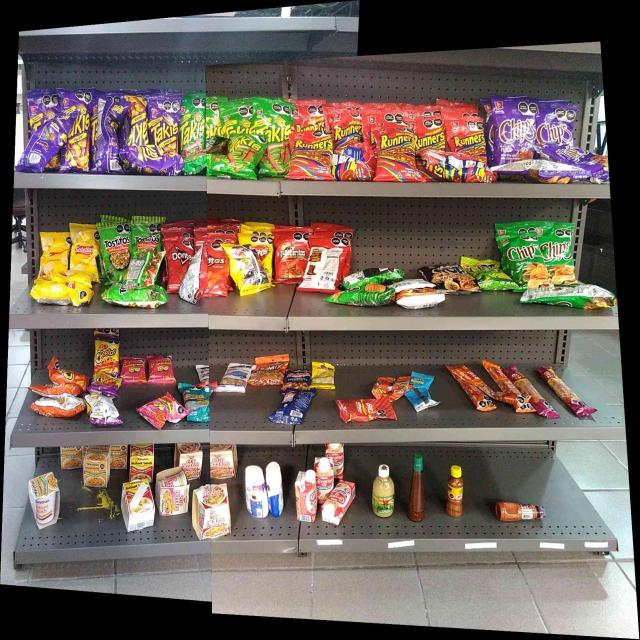bitzAlmendras: (411, 387, 432, 409)
bitzEnchilado90: (342, 399, 388, 420)
bitzEnchilado95: (456, 366, 489, 411), (493, 364, 520, 412)
bitzHabanero: (556, 377, 590, 415), (524, 375, 551, 418)
bokadosCacahuates: (287, 369, 310, 388)
botaneraChilito: (446, 465, 464, 518)
cheetosFlaminHot: (95, 334, 118, 374)
cheetosOriginal: (50, 361, 87, 386)
chipsFuego: (495, 100, 534, 160), (540, 105, 573, 143), (545, 145, 606, 161)
chipsJalapeno: (509, 233, 544, 284), (546, 227, 575, 283)
chipsPapatinas: (478, 262, 507, 289)
churrumais: (144, 397, 178, 424), (149, 356, 174, 384), (122, 357, 145, 383)
delPrimoSalsa: (372, 464, 395, 518)
doritosNacho: (207, 240, 227, 297), (167, 238, 188, 288)
leoCacahuates: (223, 364, 248, 390)
leoMix: (261, 107, 288, 177), (223, 134, 258, 178), (256, 358, 284, 384)
maruchanPollo: (28, 474, 62, 526), (84, 444, 110, 486)
maruchanRes: (122, 481, 154, 528)
nestleCarnation: (296, 472, 316, 521), (330, 483, 352, 526), (318, 457, 329, 501)
nestleLechera: (245, 466, 265, 517), (268, 462, 283, 516)
nissinCamaron: (158, 470, 190, 514)
nissinRes: (130, 444, 153, 478)
popKarameladas: (435, 265, 474, 290)
productoAtras: (96, 95, 120, 174), (26, 116, 60, 170), (500, 163, 586, 182), (531, 288, 615, 307), (309, 247, 338, 293), (234, 245, 262, 292), (276, 391, 309, 423), (130, 252, 156, 287), (87, 394, 117, 424), (347, 268, 400, 283), (190, 246, 204, 302), (375, 375, 406, 396)
rancheritos: (276, 230, 306, 283)
rufflesQueso: (340, 285, 390, 304)
runners: (377, 130, 415, 180), (291, 132, 330, 180), (426, 158, 491, 181), (450, 116, 485, 156), (334, 112, 362, 150)
sabritasOriginal: (35, 280, 91, 304), (72, 225, 98, 272), (41, 231, 68, 272)
salsaBufalo: (408, 453, 424, 523)
semillasCalabaza: (312, 362, 334, 389)
semillasGirasol: (185, 384, 209, 422)
tajinDulce: (495, 501, 546, 522)
takisFuego: (65, 89, 89, 172), (126, 146, 180, 173), (150, 99, 179, 145), (126, 95, 148, 144)
takisOriginal: (183, 100, 205, 153)
tostitos: (104, 224, 128, 279), (106, 288, 166, 305)
